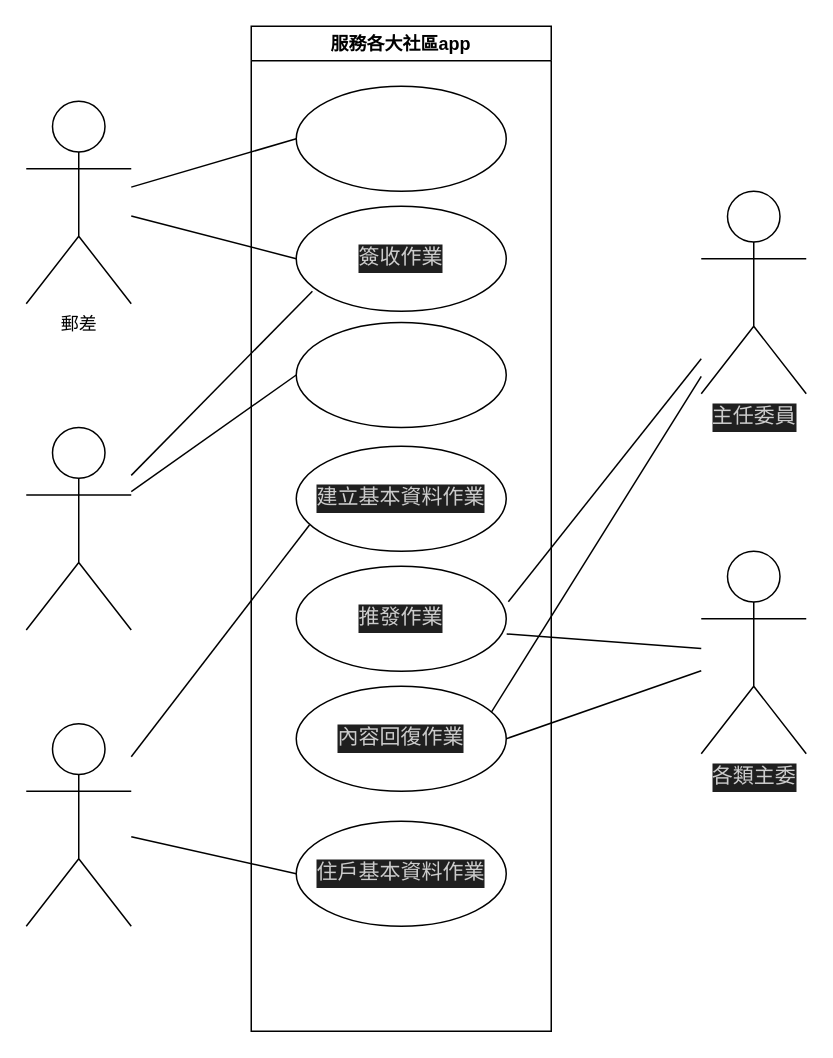
This 833x1058 diagram has some shape labels left out. Each missing label, with the box of its shape:
住戶: (25, 722, 131, 926)
出貨作業: (295, 85, 506, 191)
查實基本資料作業: (295, 321, 506, 428)
警衛: (25, 426, 131, 630)
